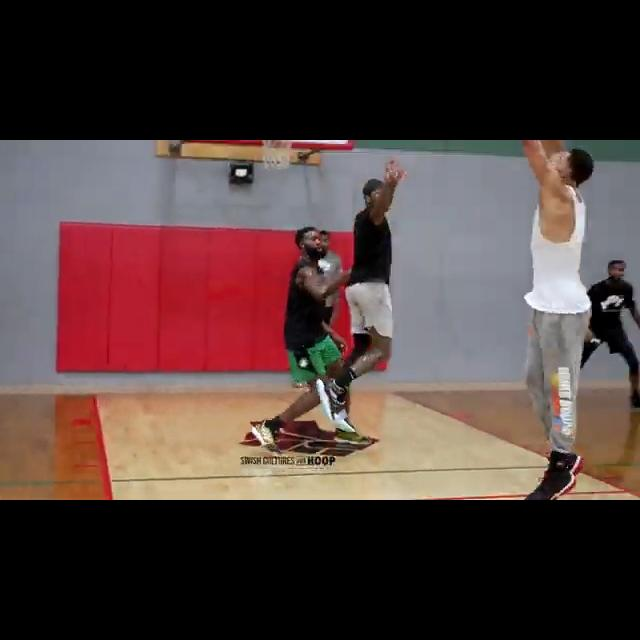hoop: (262, 140, 293, 173)
person: (244, 221, 373, 456), (514, 140, 586, 500), (317, 162, 407, 427), (577, 259, 640, 412), (292, 216, 343, 388)
